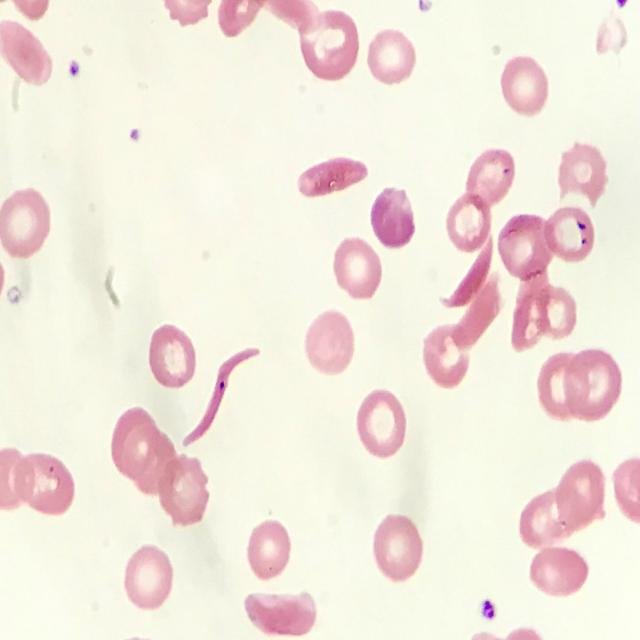sickle cell: (176, 324, 270, 463), (430, 222, 504, 320), (290, 151, 380, 202)
